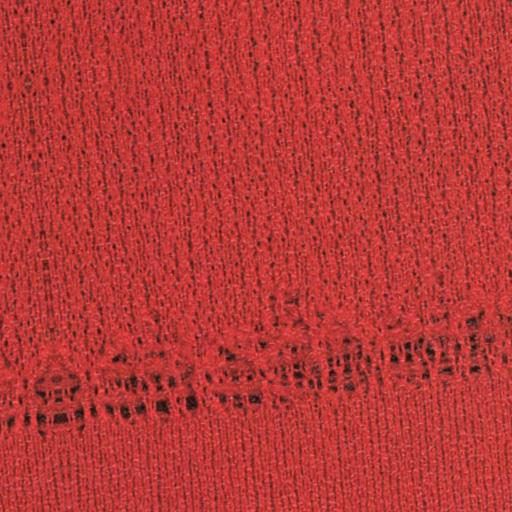slub: (1, 303, 512, 445)
